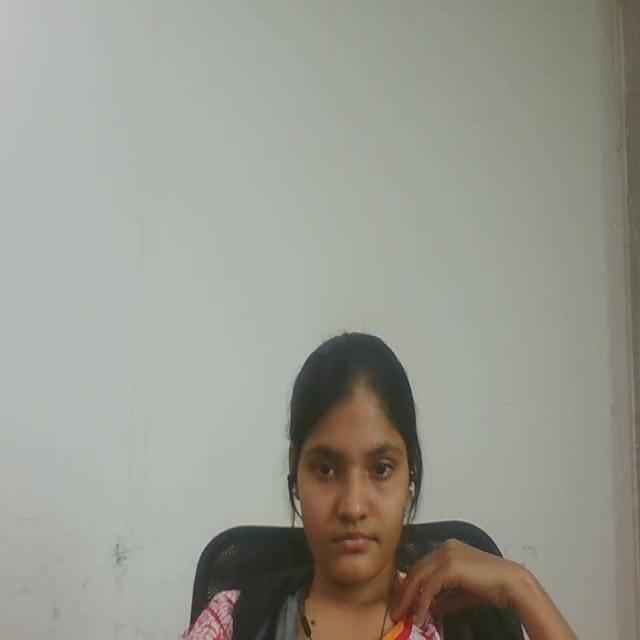Engaged: (260, 317, 480, 593)
